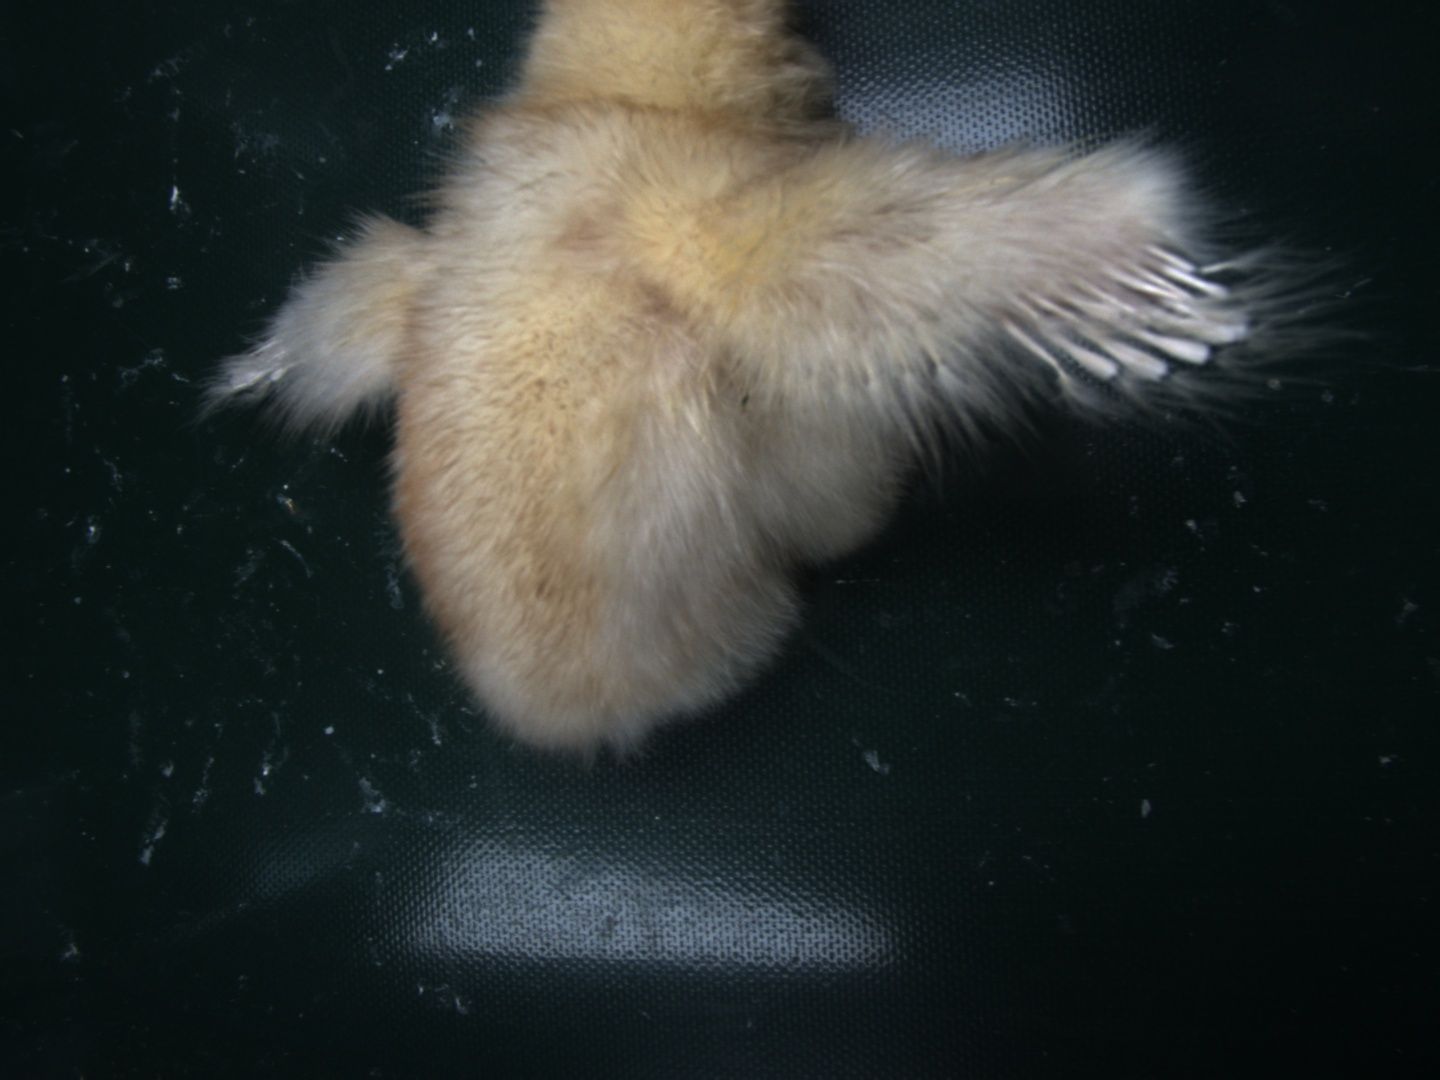female: (1001, 241, 1251, 389)
